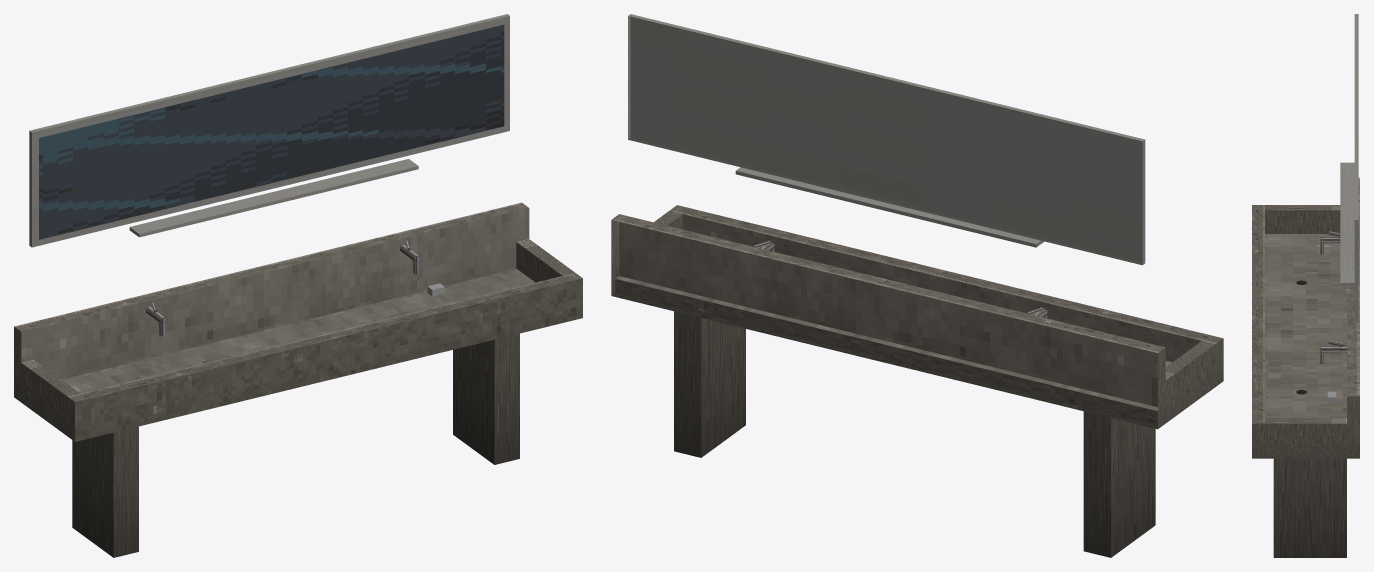
The model's file is prop_hallsink-24-1.glb.
3 renders of one model, left to right at view 1: azimuth 30°, elevation 25°; view 2: azimuth 150°, elevation 25°; view 3: azimuth 270°, elevation 25°, orthographic. The views are drawn at different scales.
Parts seen in each view (by area): view 1: prop_hallsink-24-1; view 2: prop_hallsink-24-1; view 3: prop_hallsink-24-1.
Part boxes in pixels (left/top/right/bottom): prop_hallsink-24-1: left=14, top=14, right=582, bottom=557; prop_hallsink-24-1: left=611, top=14, right=1223, bottom=557; prop_hallsink-24-1: left=1252, top=14, right=1359, bottom=557.
Size of the model in its own units: 2.4 by 1.81 by 0.5.
4 materials, 4 textured.
